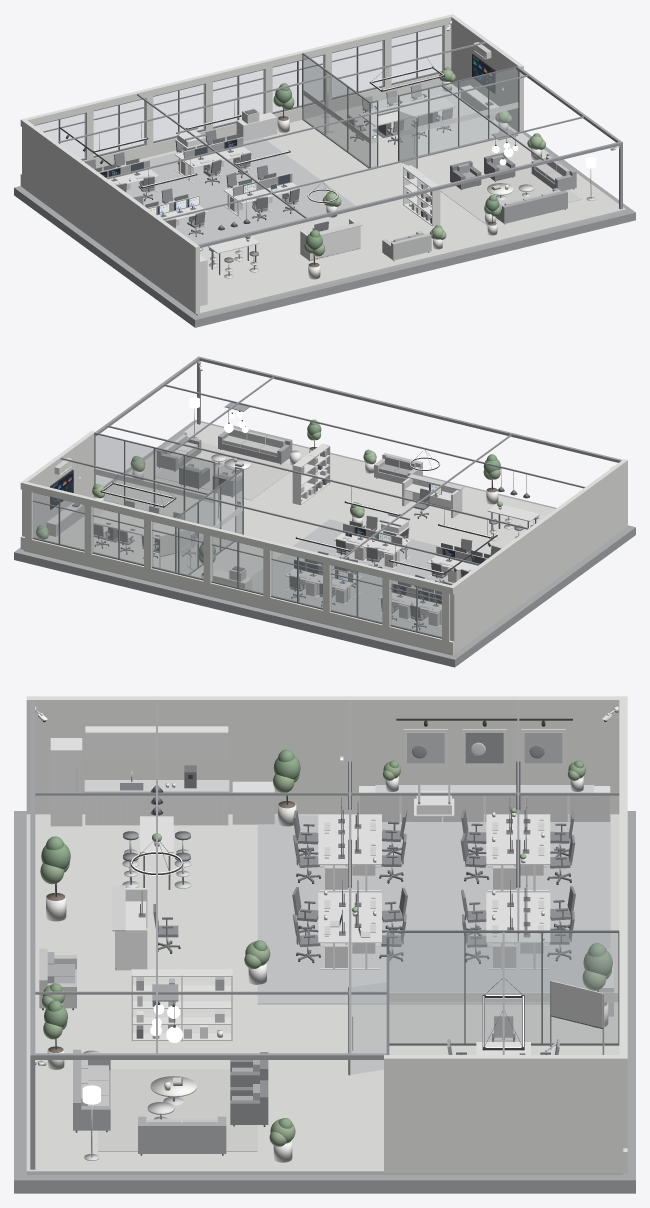
File: smart-office.glb
3 renders of one model, top to bottom at view 1: azimuth 30°, elevation 25°; view 2: azimuth 150°, elevation 25°; view 3: azimuth 270°, elevation 25°, orthographic. The views are drawn at different scales.
Visible parts, largest first — view 1: Structure__floor, Structure__wall, Windows__glass, Conference__glass, Structure__carpet, Structure__base, Ceiling__truss, Conference__wall, Workspace__white, Windows__frame, Lounge__fabric, Lounge__rug (+19 smaller); view 2: Structure__wall, Structure__floor, Windows__glass, Structure__base, Conference__glass, Ceiling__truss, Structure__carpet, Conference__wall, Workspace__white, Windows__frame, Lounge__rug, Conference__frame (+19 smaller); view 3: Structure__floor, Structure__wall, Structure__carpet, Conference__wall, Conference__glass, Structure__base, Kitchen__white, Workspace__white, Ceiling__truss, Workspace__lightgrey, Lounge__rug, Workspace__fabricdark (+19 smaller).
Boxes of the visible parts, <box> form: Structure__floor: <box>26,84,625,315</box>; Structure__wall: <box>20,14,454,313</box>; Windows__glass: <box>36,26,442,158</box>; Conference__glass: <box>303,55,517,167</box>; Structure__carpet: <box>102,137,355,244</box>; Structure__base: <box>14,132,635,327</box>; Ceiling__truss: <box>57,42,622,247</box>; Conference__wall: <box>450,15,523,131</box>; Workspace__white: <box>98,112,301,227</box>; Windows__frame: <box>34,25,443,160</box>; Lounge__fabric: <box>457,153,576,223</box>; Lounge__rug: <box>440,167,581,223</box>; Structure__wall: <box>20,459,627,654</box>; Structure__floor: <box>24,422,618,655</box>; Windows__glass: <box>33,493,441,637</box>; Structure__base: <box>14,419,635,667</box>; Conference__glass: <box>95,434,242,574</box>; Ceiling__truss: <box>60,356,621,565</box>; Structure__carpet: <box>250,519,483,636</box>; Conference__wall: <box>22,431,95,537</box>; Workspace__white: <box>213,523,487,627</box>; Windows__frame: <box>32,492,441,638</box>; Lounge__rug: <box>155,442,292,500</box>; Conference__frame: <box>94,432,243,574</box>; Structure__floor: <box>26,814,623,1174</box>; Structure__wall: <box>26,696,627,1172</box>; Structure__carpet: <box>257,815,610,1004</box>; Conference__wall: <box>384,1055,623,1172</box>; Conference__glass: <box>350,933,617,1074</box>; Structure__base: <box>14,811,635,1193</box>; Kitchen__white: <box>50,726,274,853</box>; Workspace__white: <box>318,786,613,1016</box>; Ceiling__truss: <box>30,700,619,1169</box>; Workspace__lightgrey: <box>324,785,611,972</box>; Lounge__rug: <box>98,1069,257,1151</box>; Workspace__fabricdark: <box>292,809,575,947</box>.
Size of the model in its own units: 20.8 by 3.45 by 14.8.
Materials: 35 (4 with a texture image).
